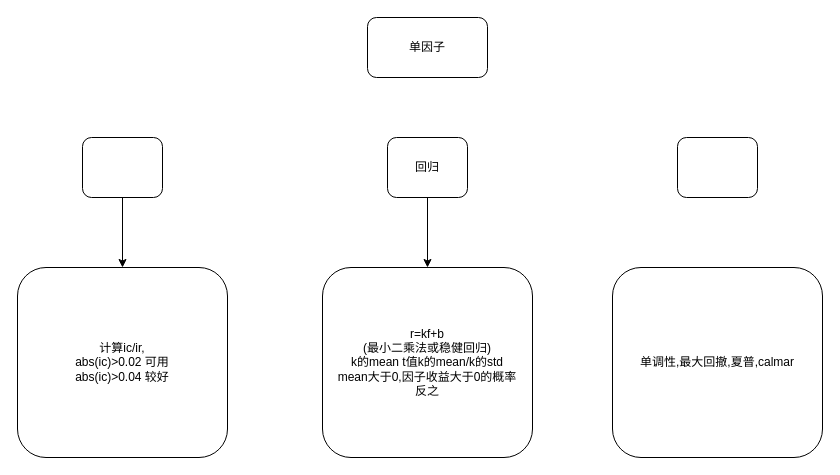
The diagram is 840 pixels wide and 475 high, and some of its shapes have lost their labels. Each missing label, with the centre of its shape:
f分组: pixel 717 167
IC/IR: pixel 122 167
